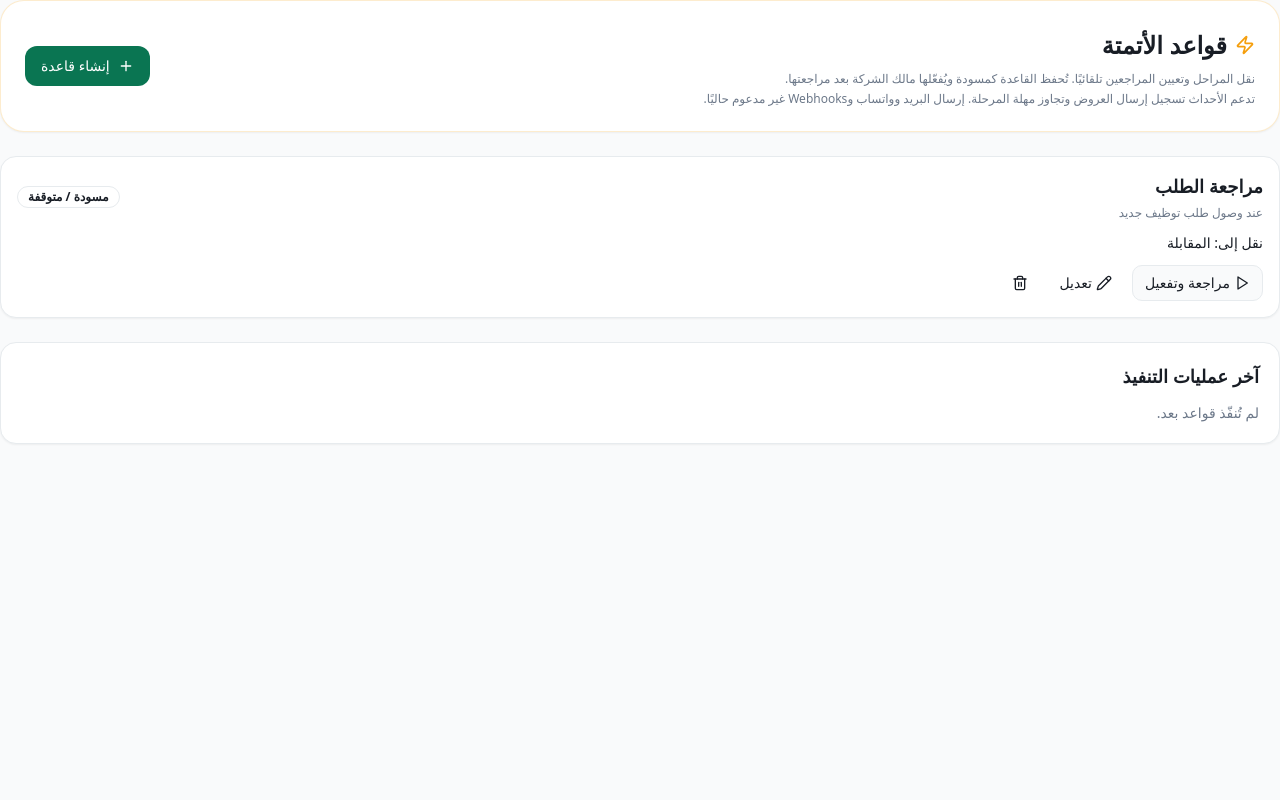
Automation activation review › shows an actionable review and activates only after the owner confirms
The image size is (1280, 800).
Step 1. Click the button "مراجعة وتفعيل" → (1198, 283), box [1132,265,1263,301]
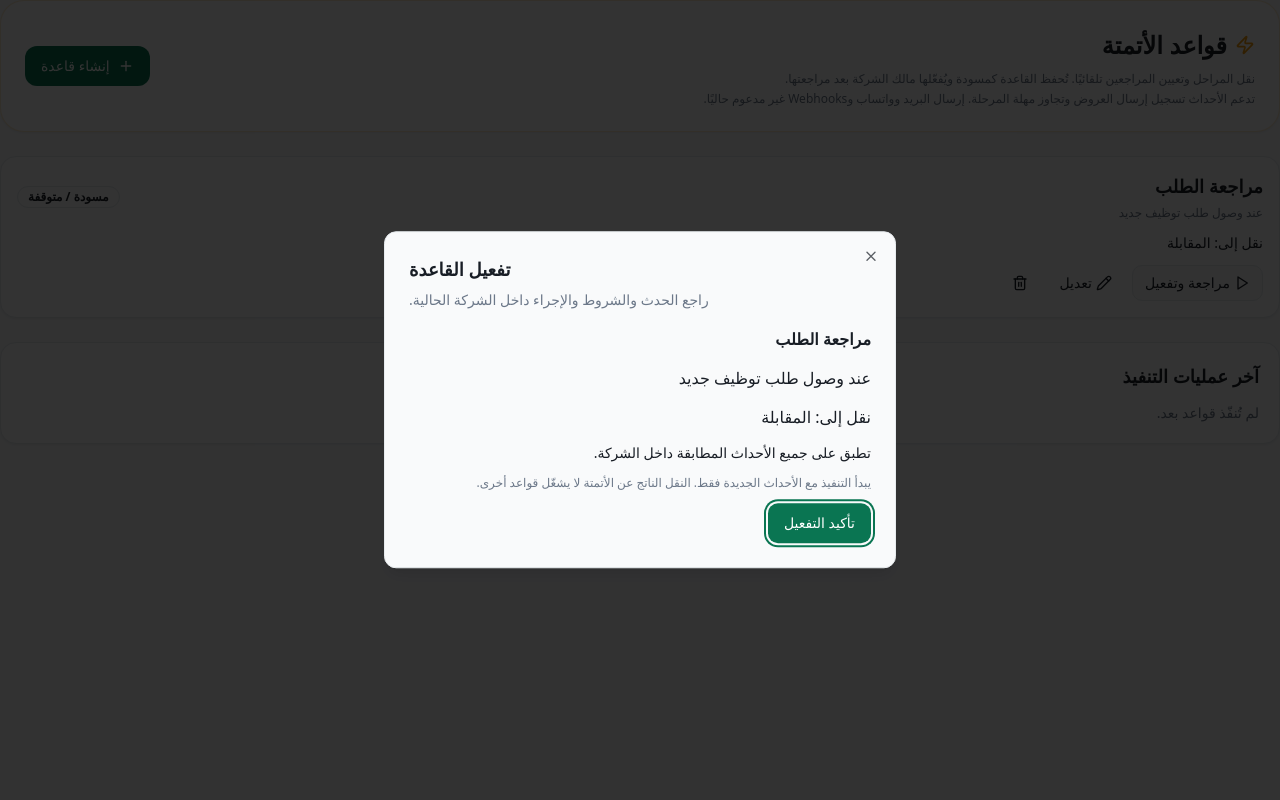
Result: the dialog shows "نقل إلى: المقابلة" at [761,406,871,428]
Step 2. Click the button "تأكيد التفعيل" → (819, 524), box [768,504,871,544]
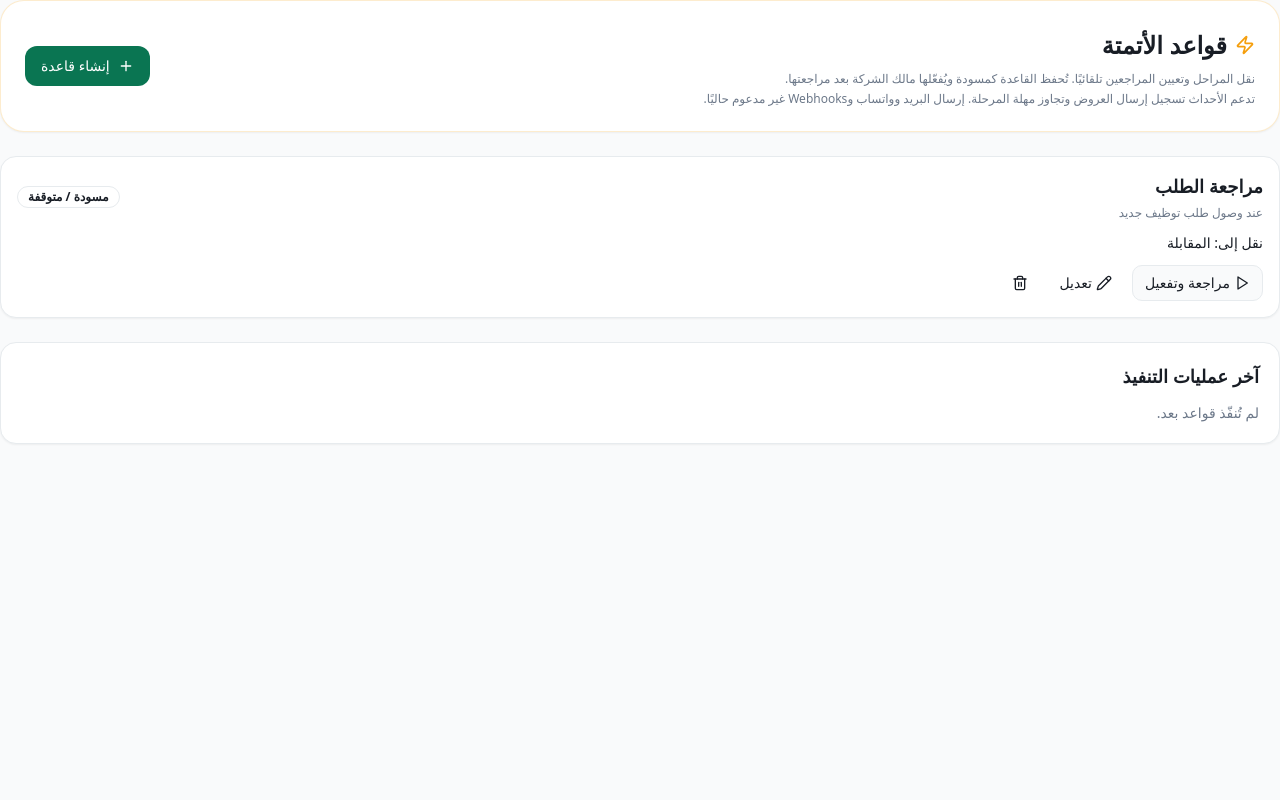
Result: the dialog is gone
